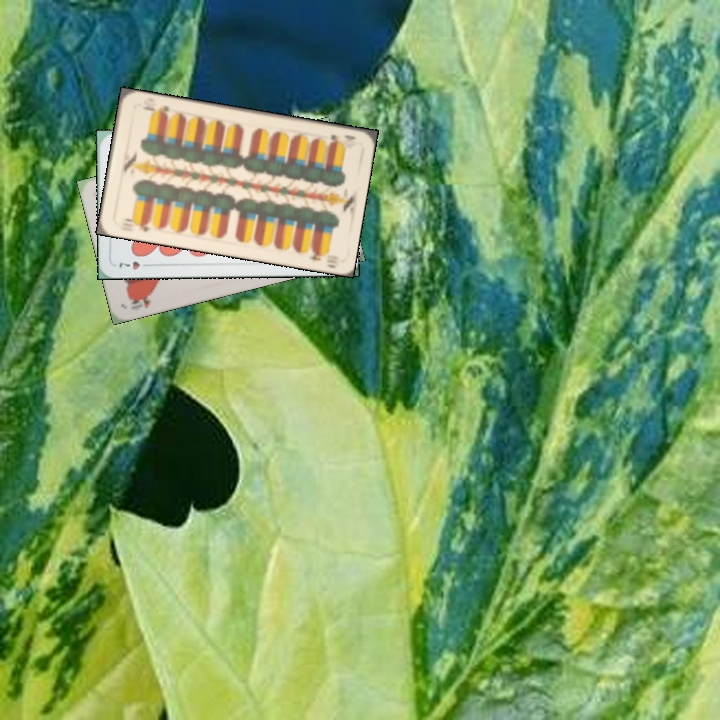E10: (120, 214, 153, 234), (325, 130, 358, 146)
H7: (115, 257, 153, 273)
HO: (125, 290, 154, 312)
